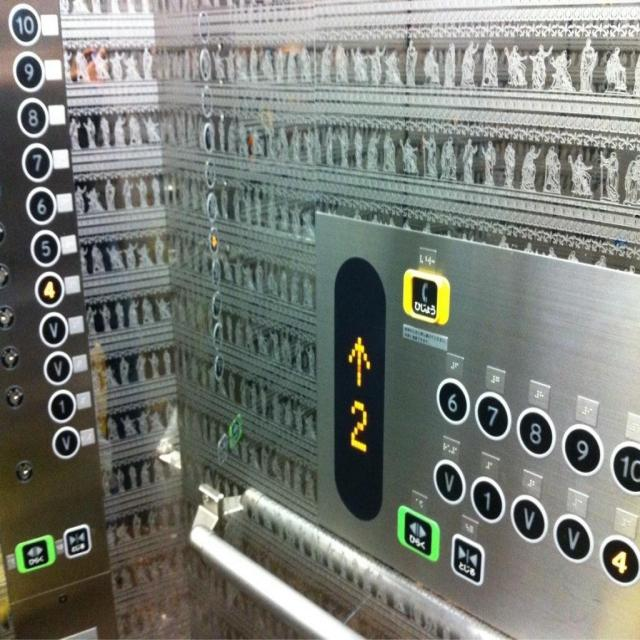1: (468, 475, 505, 523), (46, 389, 76, 423)
10: (610, 442, 640, 495), (7, 3, 41, 48)
4: (598, 534, 640, 584), (33, 271, 65, 306)
5: (26, 228, 62, 266)
6: (434, 371, 472, 426), (23, 184, 58, 224)
7: (473, 392, 511, 445), (20, 140, 54, 182)
8: (514, 406, 556, 457), (15, 95, 50, 138)
9: (562, 424, 602, 474), (10, 47, 47, 93)
V: (552, 512, 592, 561), (510, 494, 548, 544), (432, 458, 466, 504), (41, 348, 73, 387), (37, 310, 67, 346), (51, 424, 78, 460)
call: (400, 265, 449, 328)
close: (449, 533, 485, 586), (62, 520, 92, 559)
led: (332, 257, 384, 520)
open: (396, 505, 440, 562), (13, 531, 57, 575)
